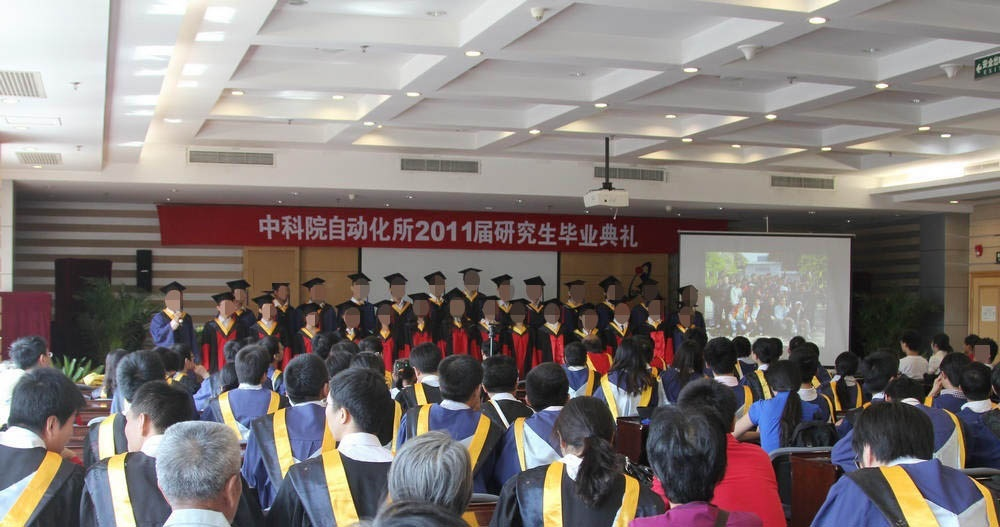text: (257, 212, 272, 250), (273, 212, 288, 250), (289, 212, 304, 250), (305, 212, 320, 250), (321, 212, 336, 250), (337, 212, 352, 250), (353, 212, 368, 250), (369, 212, 384, 250), (385, 212, 400, 250), (401, 212, 416, 250), (417, 212, 432, 250), (433, 212, 448, 250), (449, 212, 464, 250), (465, 212, 480, 250), (481, 212, 496, 250), (497, 212, 512, 250), (513, 212, 528, 250), (529, 212, 544, 250), (545, 212, 560, 250), (561, 212, 576, 250), (577, 212, 592, 250), (593, 212, 608, 250), (609, 212, 624, 250), (625, 212, 640, 250)
